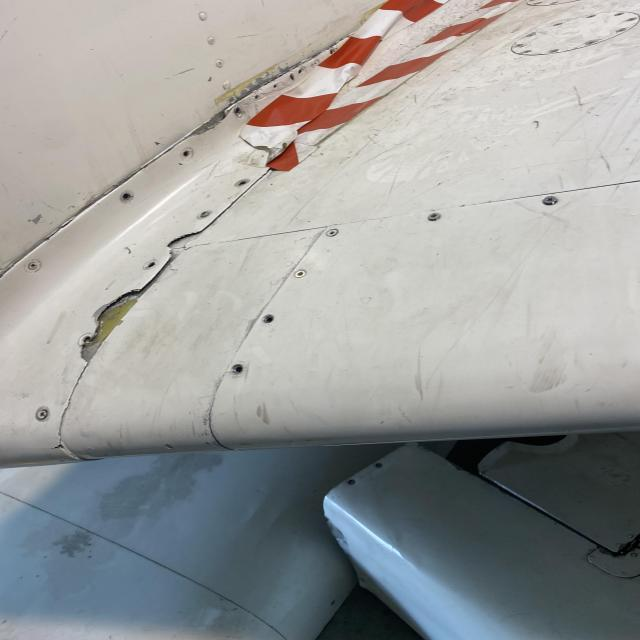Crack: (71, 284, 148, 366), (187, 104, 236, 142), (159, 230, 208, 255), (25, 437, 74, 457)
Missing_Fastener: (230, 363, 247, 378), (120, 190, 136, 203), (232, 177, 250, 187), (260, 314, 276, 324), (180, 149, 194, 160), (146, 259, 158, 270)
